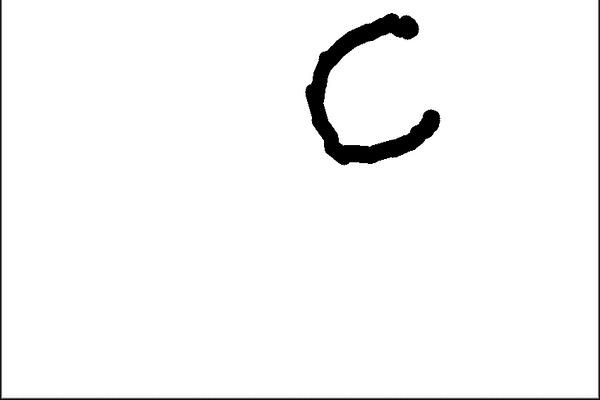C: (302, 10, 443, 166)
